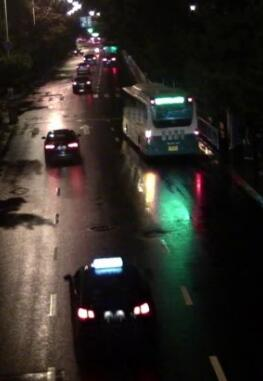bus: (121, 80, 202, 160)
car: (64, 258, 160, 356), (41, 128, 83, 162), (71, 73, 95, 93), (81, 50, 98, 64), (76, 62, 93, 75), (102, 50, 115, 65)
